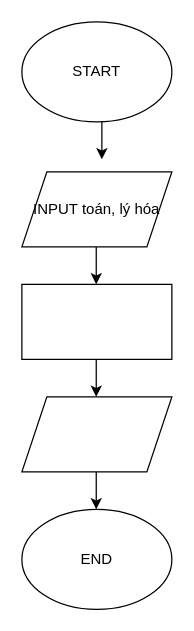
Image size: 194x631. Some labels were removed from this diagram. The shapes that lost their labels are listed below. From the top down, each one's centre as x and y in pixels, then its label:
At point (96, 321): "result=(toán +lý +hóa)/3".
At point (96, 434): "OUTPUT result".
